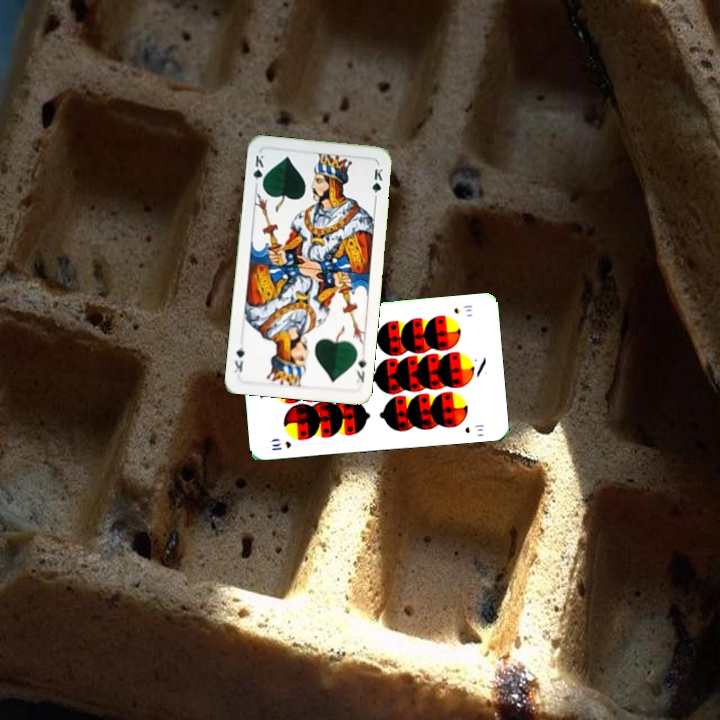GK: (249, 151, 266, 190), (351, 353, 369, 385)
S10: (268, 437, 294, 453), (450, 301, 475, 316)
